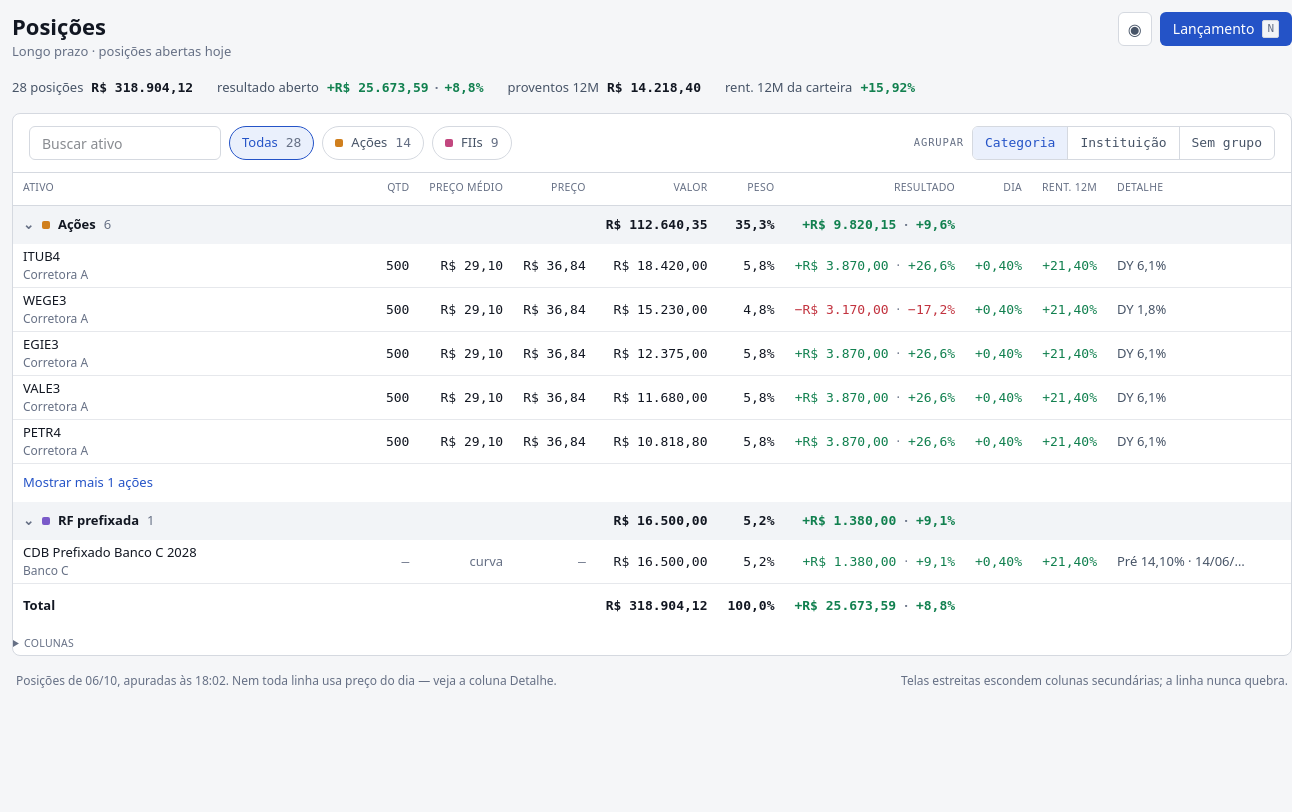
Test: tela de Posições › clicar na linha abre o ativo embaixo dela, sem sair da tela
This screenshot has width=1292, height=812.
Click the text "ITUB4".
click(652, 266)  # box left=13, top=244, right=1291, bottom=288
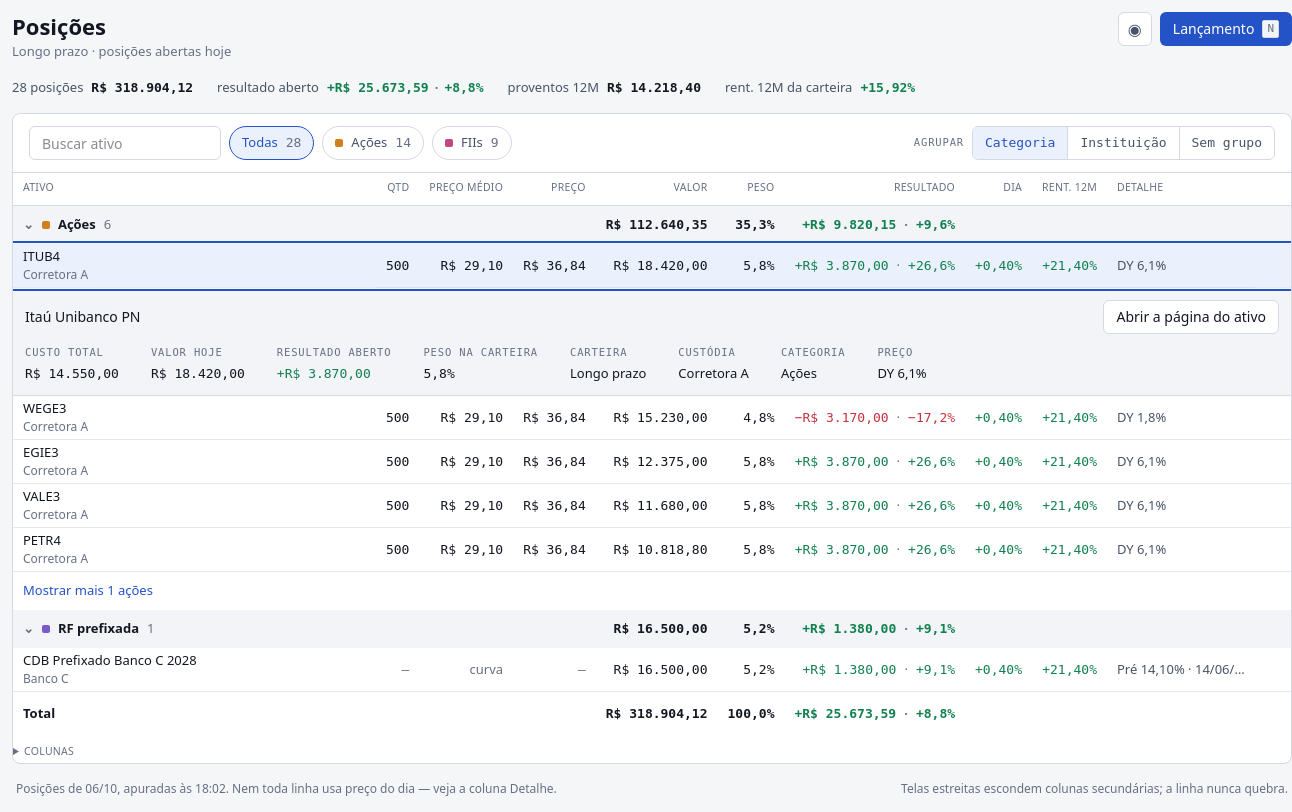
expect the text "Itaú Unibanco PN" is shown: met, box left=25, top=307, right=140, bottom=327
expect the text "Custo total" is shown: met, box left=25, top=346, right=104, bottom=358
Click the text "ITUB4".
click(652, 266)  # box left=13, top=244, right=1291, bottom=288
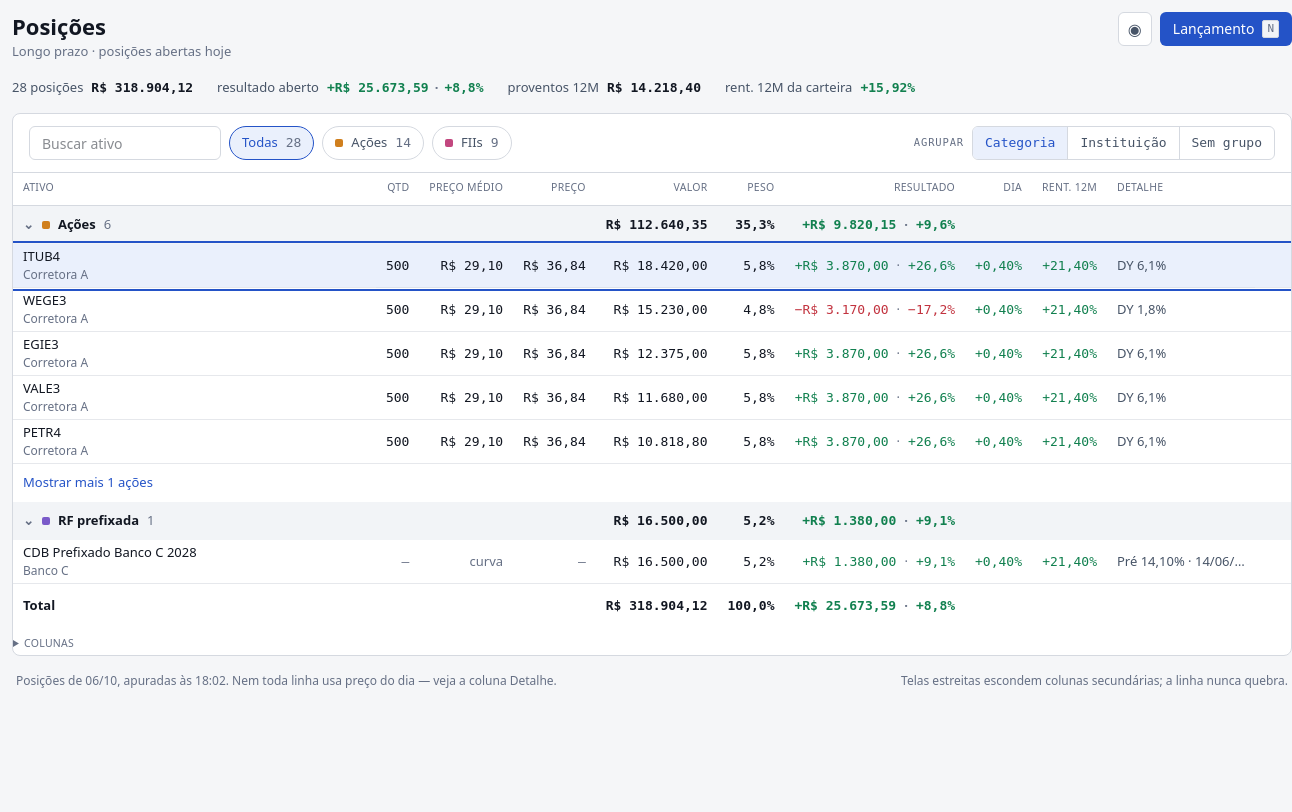
expect the text "Custo total" is gone: met
